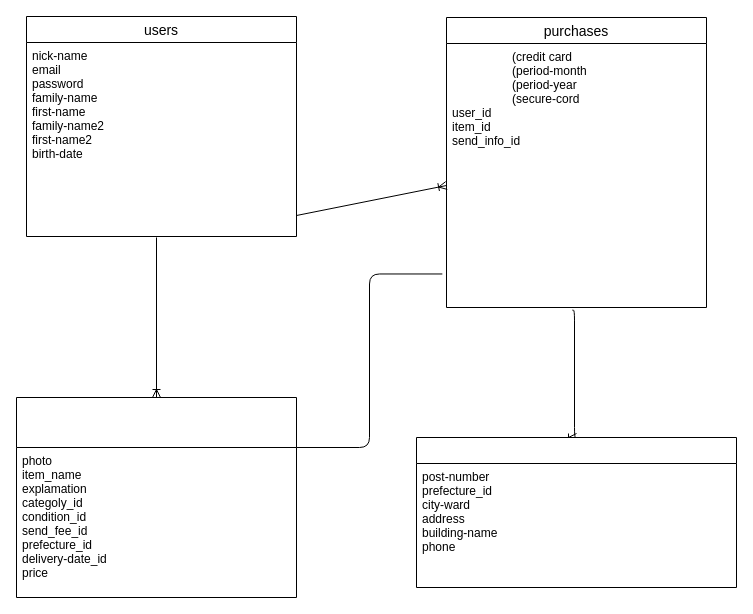
Some shapes in this 753 by 614 pixel diagram are drawn without their labels. The shapes that lost their labels are listed below. From the top down, each one's box as (x1, y1, x2, y2) in pixels, then its label:
(16, 396, 296, 598): items
(416, 436, 736, 588): send_infos
